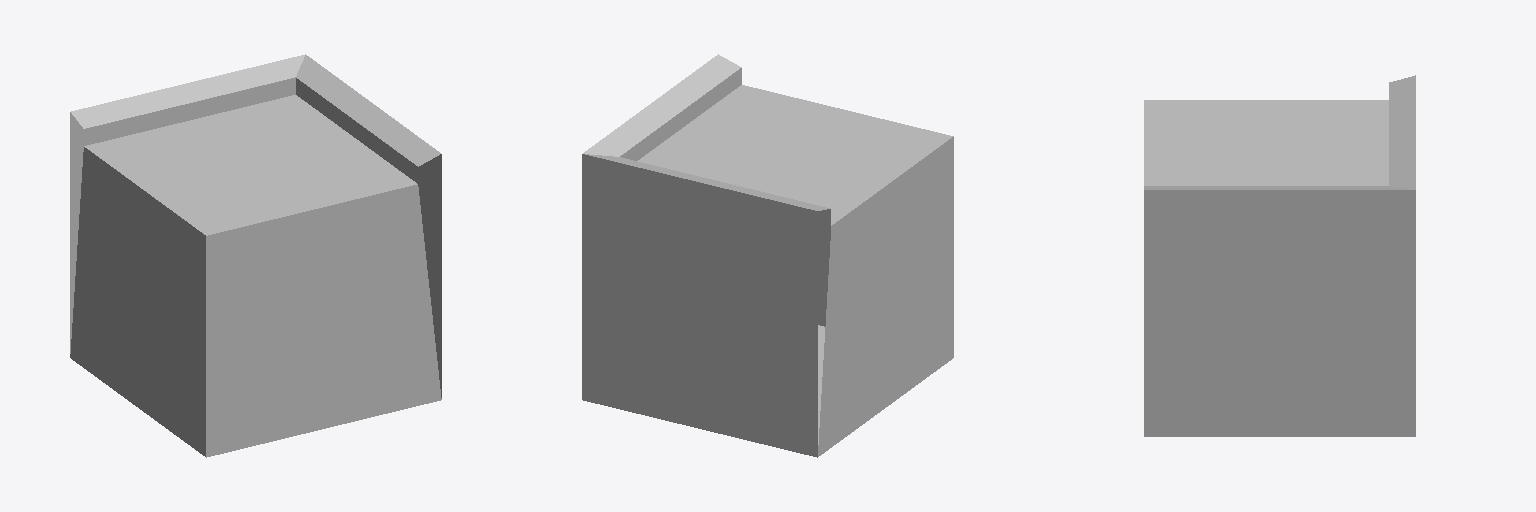
Rendered from screen2Quarters.obj.
3 renders of one model, left to right at view 1: azimuth 30°, elevation 25°; view 2: azimuth 150°, elevation 25°; view 3: azimuth 270°, elevation 25°, orthographic.
Parts seen in each view (by area): view 1: main; view 2: main; view 3: main.
Part boxes in pixels (x1,y1,x2,y2): main: (70,54,441,457); main: (582,54,953,457); main: (1144,75,1415,436).
Bounding box in the file's own units: 1 × 1 × 1.